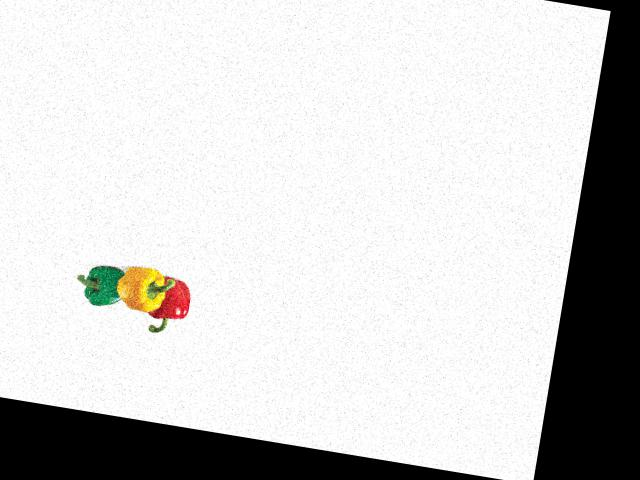bell_pepper: (74, 257, 132, 314)
